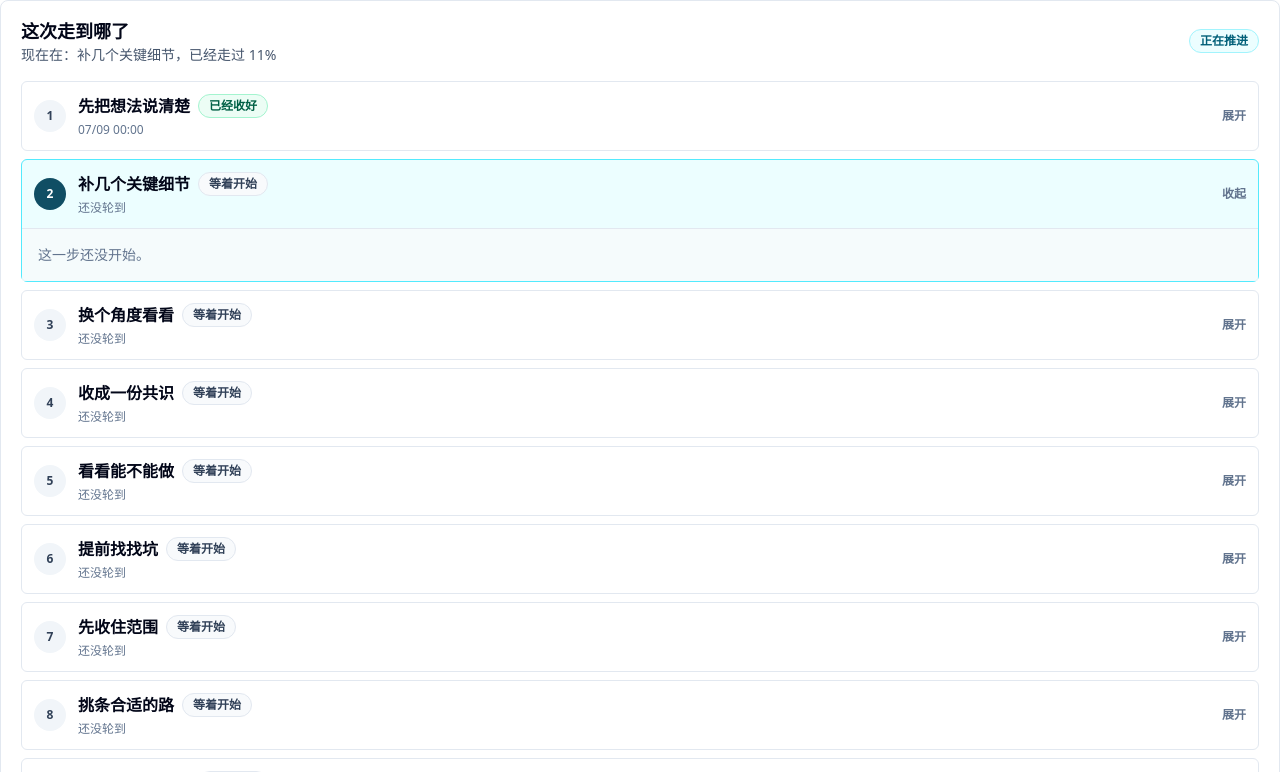
it: StageRail › expands a stage and shows its structured record
The image size is (1280, 772).
Click the heading "1 先把想法说清楚 已经收好 07/09 00:00 展开" at x=50, y=116, box [22,82,1258,150]
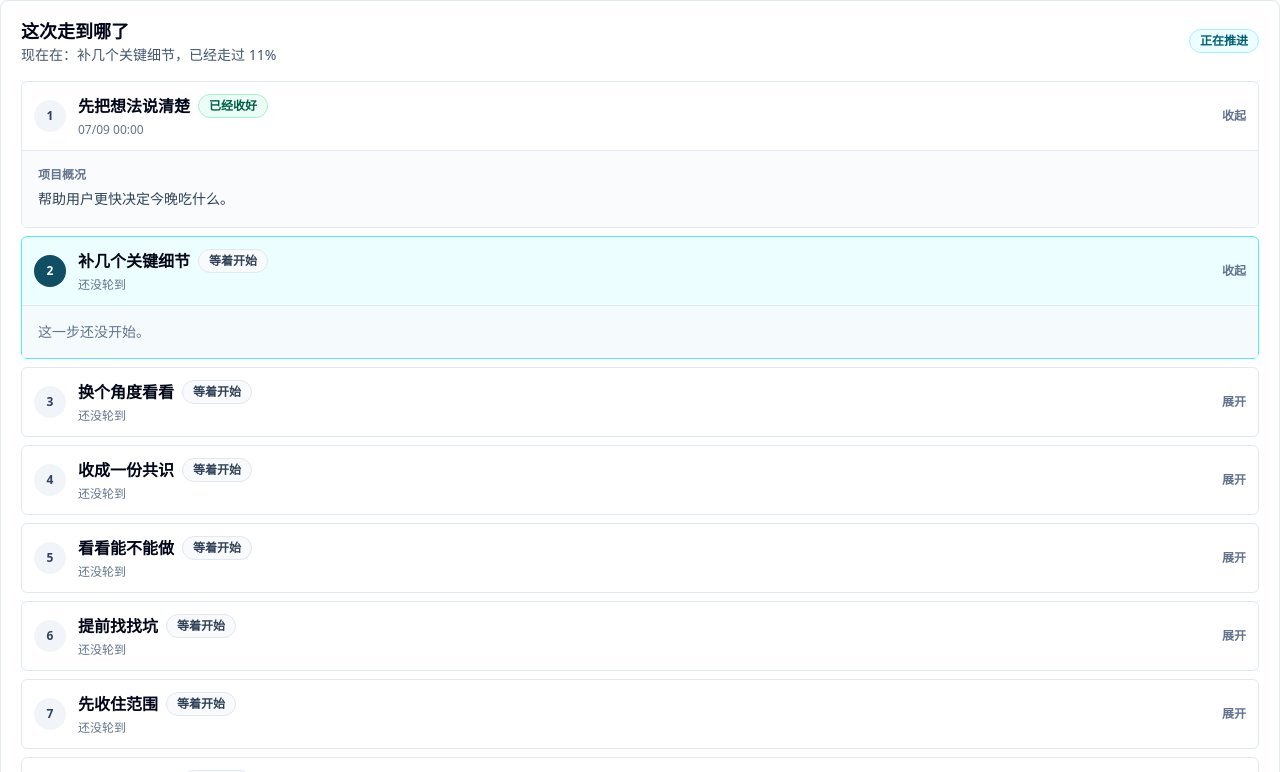
Expected: the text "帮助用户更快决定今晚吃什么。" is shown, [38,189,234,208]
